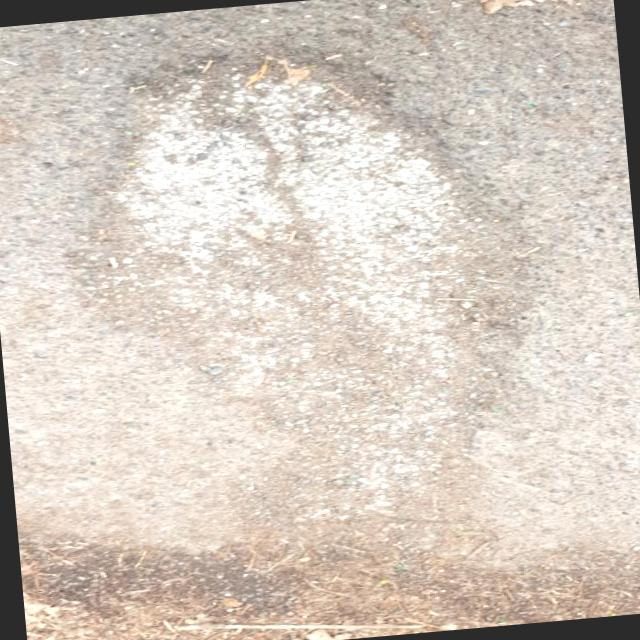pothole: (43, 18, 560, 557)
